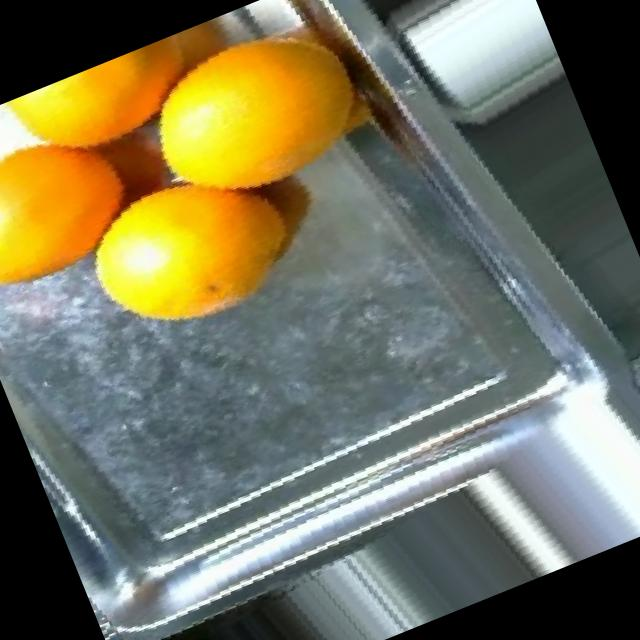Fruit: (52, 142, 294, 366), (0, 102, 146, 323)
